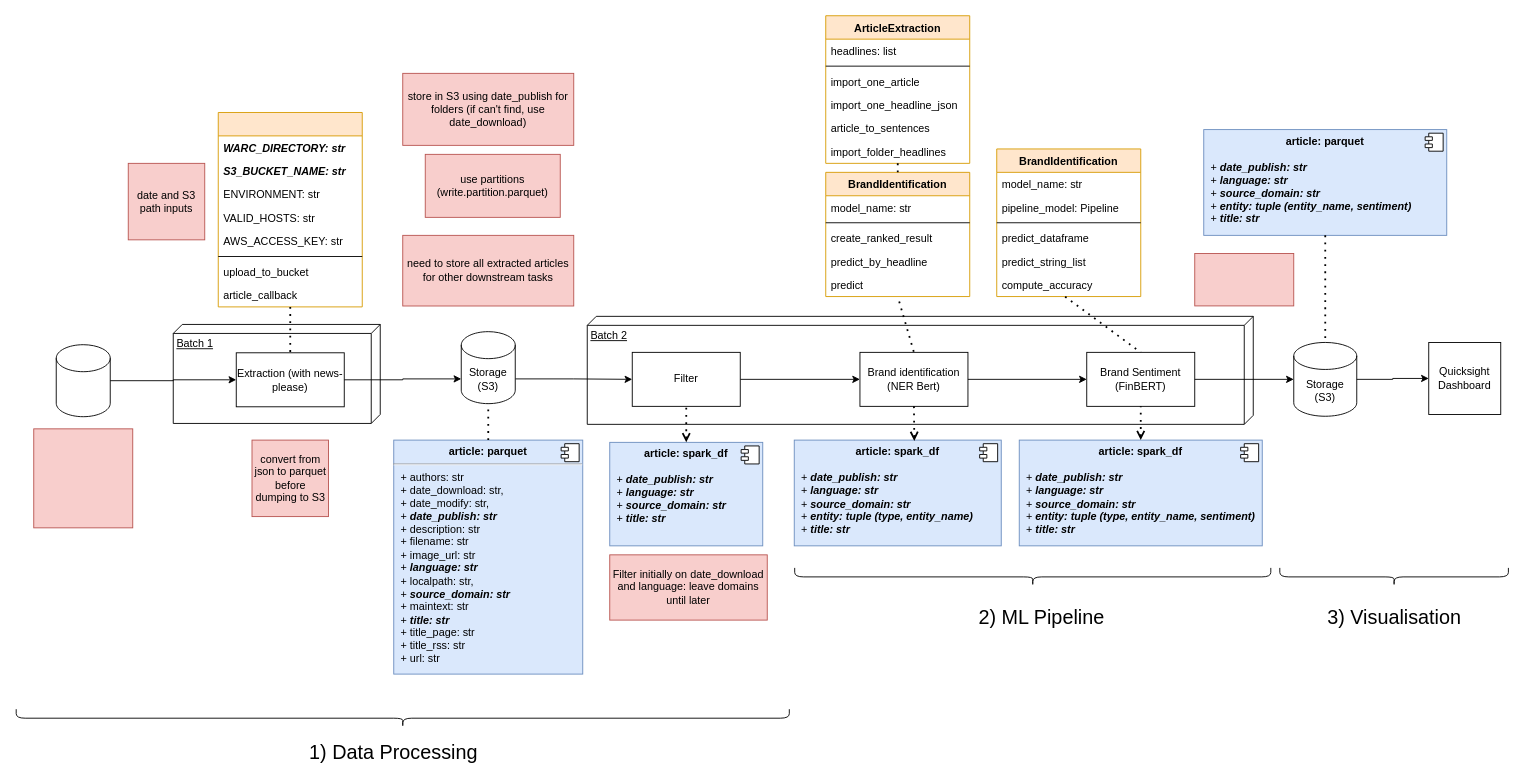
Some shapes in this 1524 by 782 pixel diagram are drawn without their labels. The centre of each missing label's shape, as x and y in pixels:
"BatchExtractor" goes at pixel 289 209.
"buckets organised by date, scraped 27x a day" goes at pixel 83 478.
"CC News Archive (S3)" goes at pixel 82 380.
"filter non-brands (for first iteration)" goes at pixel 1244 279.
